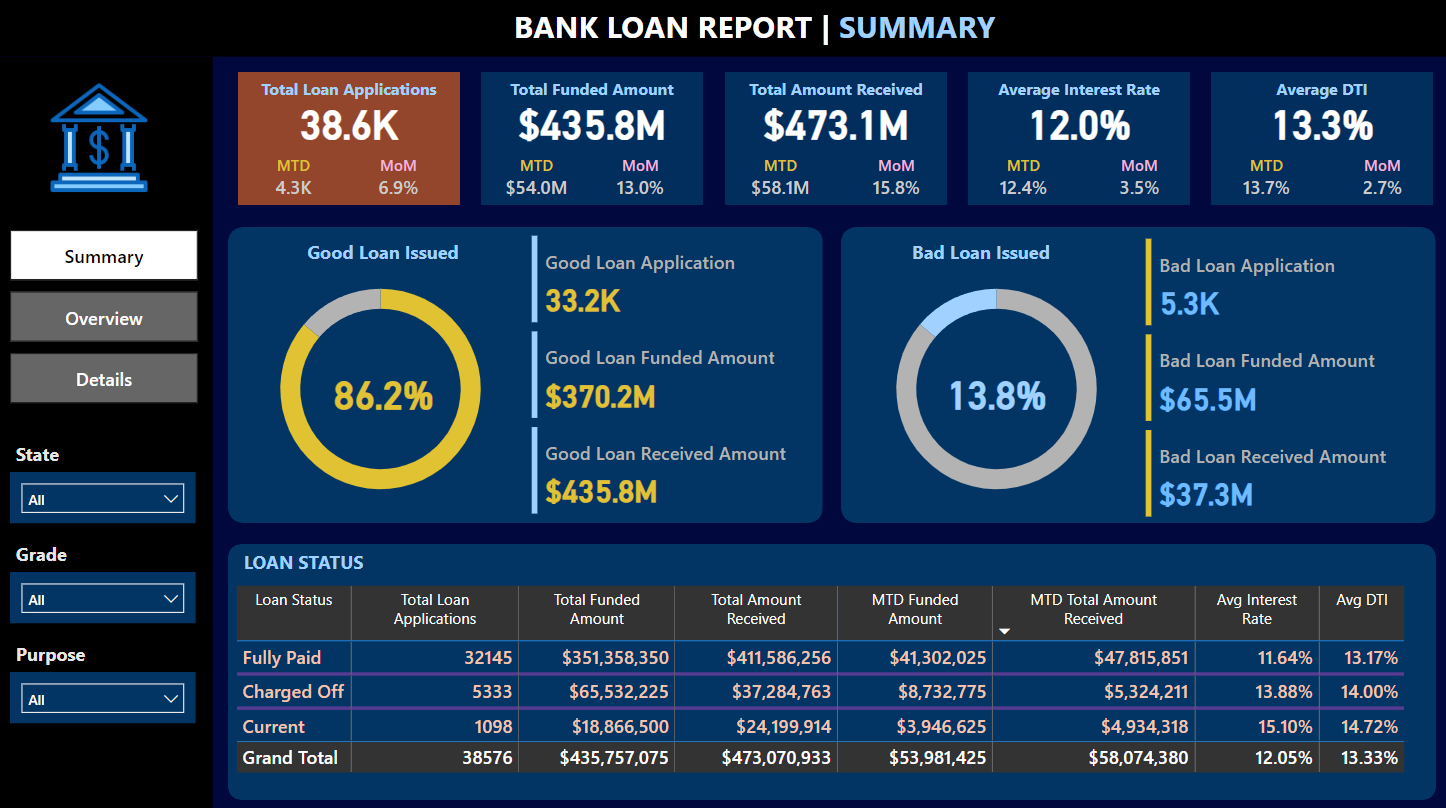

The page's visual inventory and layout, read from the dashboard file:
{"tool":"powerbi","page":{"name":"Summary","canvas":[1280,720],"ordinal":0},"visuals":[{"type":"shape","box":[0,55.3,192,665],"z":0},{"type":"shape","box":[214.2,68.5,194.9,116.8],"z":0,"group":"g1"},{"type":"shape","box":[427.8,68.5,194.9,116.8],"z":0,"group":"g2"},{"type":"shape","box":[641.4,68.5,194.9,116.8],"z":0,"group":"g3"},{"type":"shape","box":[855,68.5,194.9,116.8],"z":0,"group":"g4"},{"type":"shape","box":[1068.6,68.5,194.9,116.8],"z":0,"group":"g5"},{"type":"card","fields":{"Values":["bank_loan_data.Total Loan Applications"]},"box":[214.2,90.5,194.9,43.9],"z":1000,"group":"g1"},{"type":"card","fields":{"Values":["bank_loan_data.Total Funded Amount"]},"box":[427.8,90.5,194.9,43.9],"z":1000,"group":"g2"},{"type":"card","fields":{"Values":["bank_loan_data.Total Amount Received"]},"box":[641.4,90.5,194.9,43.9],"z":1000,"group":"g3"},{"type":"card","fields":{"Values":["bank_loan_data.Average Interest Rate"]},"box":[855,90.5,194.9,43.9],"z":1000,"group":"g4"},{"type":"card","fields":{"Values":["bank_loan_data.Average DTI"]},"box":[1068.6,90.5,194.9,43.9],"z":1000,"group":"g5"},{"type":"shape","box":[205.5,482.9,1060.7,224.8],"z":1000},{"type":"textbox","box":[214.2,68.5,194.9,31.6],"z":2000,"group":"g1"},{"type":"textbox","box":[427.8,68.5,194.9,31.6],"z":2000,"group":"g2"},{"type":"textbox","box":[641.4,68.5,194.9,31.6],"z":2000,"group":"g3"},{"type":"textbox","box":[855,68.5,194.9,31.6],"z":2000,"group":"g4"},{"type":"textbox","box":[1068.6,68.5,194.9,31.6],"z":2000,"group":"g5"},{"type":"shape","box":[205.5,204.6,522.4,259.9],"z":2000},{"type":"shape","box":[0,0,1280.2,55.3],"z":3000},{"type":"card","title":"MTD","fields":{"Values":["bank_loan_data.MTD Loan Applications"]},"box":[225.6,141.4,74.6,43.9],"z":3000,"group":"g1"},{"type":"card","title":"MTD","fields":{"Values":["bank_loan_data.MTD Loan Funded Applications"]},"box":[439.2,141.4,74.6,43.9],"z":3000,"group":"g2"},{"type":"card","title":"MTD","fields":{"Values":["bank_loan_data.MTD Total Amount Received"]},"box":[652.8,141.4,74.6,43.9],"z":3000,"group":"g3"},{"type":"card","title":"MTD","fields":{"Values":["bank_loan_data.MTD Average Interest Rate"]},"box":[866.4,141.4,74.6,43.9],"z":3000,"group":"g4"},{"type":"card","title":"MTD","fields":{"Values":["bank_loan_data.MTD Average DTI"]},"box":[1080,141.4,74.6,43.9],"z":3000,"group":"g5"},{"type":"card","title":"MoM","fields":{"Values":["bank_loan_data.MoM Loan Applications"]},"box":[317.8,141.4,74.6,43.9],"z":4000,"group":"g1"},{"type":"donutChart","fields":{"Category":["bank_loan_data.Good vs Bad Loans"],"Y":["bank_loan_data.Total Loan Applications"]},"box":[214.2,231.8,250.2,230],"z":4000},{"type":"textbox","box":[244.1,210.7,194.9,31.6],"z":5000},{"type":"card","fields":{"Values":["bank_loan_data.Good Loan %"]},"box":[274.8,327.5,134.3,43.9],"z":6000},{"type":"textbox","box":[451.3,4.4,445.2,47.4],"z":7000},{"type":"card","title":"MoM","fields":{"Values":["bank_loan_data.MoM Total Amount Received"]},"box":[754.7,141.4,74.6,43.9],"z":7000,"group":"g3"},{"type":"card","title":"MoM","fields":{"Values":["bank_loan_data.MoM Average Interest Rate"]},"box":[968.3,141.4,74.6,43.9],"z":7000,"group":"g4"},{"type":"card","title":"MoM","fields":{"Values":["bank_loan_data.MoM Average DTI"]},"box":[1181.9,141.4,74.6,43.9],"z":7000,"group":"g5"},{"type":"group","id":"g1","title":"Group 1","box":[214.2,68.5,194.9,116.8],"z":8000},{"type":"group","id":"g2","title":"Group 1","box":[427.8,68.5,194.9,116.8],"z":9000},{"type":"card","title":"MoM","fields":{"Values":["bank_loan_data.MoM Total Funded Amount"]},"box":[530.3,141.4,74.6,43.9],"z":10000},{"type":"group","id":"g3","title":"Group 2","box":[641.4,68.5,194.9,116.8],"z":11000},{"type":"group","id":"g4","title":"Group 2","box":[855,68.5,194.9,116.8],"z":12000},{"type":"group","id":"g5","title":"Group 2","box":[1068.6,68.5,194.9,116.8],"z":13000},{"type":"shape","box":[743.7,204.6,522.4,259.9],"z":14000},{"type":"cardVisual","fields":{"Data":["bank_loan_data.Good Loan Application","bank_loan_data.Good Loan Funded Amount","bank_loan_data.Good Loan Received Amount"]},"box":[467.1,207.2,250.2,254.6],"z":15000},{"type":"donutChart","fields":{"Category":["bank_loan_data.Good vs Bad Loans"],"Y":["bank_loan_data.Total Loan Applications"]},"box":[755.1,231.8,250.2,230],"z":16000},{"type":"textbox","box":[769.2,210.7,194.9,31.6],"z":17000},{"type":"card","fields":{"Values":["bank_loan_data.Bad Loan %"]},"box":[813.1,327.5,134.3,43.9],"z":18000},{"type":"cardVisual","fields":{"Data":["bank_loan_data.Bad Loan Application","bank_loan_data.Bad Loan Funded Amount","bank_loan_data.Bad Loan Received Amount"]},"box":[1006.2,209.9,250.2,254.6],"z":19000},{"type":"tableEx","fields":{"Values":["bank_loan_data.loan_status","bank_loan_data.Total Loan Applications","bank_loan_data.Total Funded Amount","bank_loan_data.Total Amount Received","bank_loan_data.MTD Loan Funded Applications","bank_loan_data.MTD Total Amount Received","bank_loan_data.Average Interest Rate","bank_loan_data.Average DTI"]},"box":[207.2,514.5,1049.3,186.1],"z":20000},{"type":"textbox","box":[214.2,482.9,153.7,31.6],"z":21000},{"type":"slicer","fields":{"Values":["bank_loan_data.address_state"]},"box":[14,419.7,163.3,44.8],"z":22000},{"type":"textbox","box":[14.5,564.1,88.6,31.6],"z":23000},{"type":"slicer","fields":{"Values":["bank_loan_data.grade"]},"box":[14,507.5,163.3,44.8],"z":24000},{"type":"textbox","box":[14,475.9,79,31.6],"z":25000},{"type":"textbox","box":[14,388.1,88.7,31.6],"z":26000},{"type":"slicer","fields":{"Values":["bank_loan_data.purpose"]},"box":[14,595.3,163.3,44.8],"z":27000},{"type":"image","box":[30.7,66.9,123.8,119.3],"z":27001},{"type":"pageNavigator","box":[14.5,207,165.4,152.8],"z":27002}]}

Visuals, with their boxes in screenshot pixels (x1, y1, x2, y2), scaled from the page's 1280x720 canvas onto the 1446x808 screenshot:
shape: 0 62 217 807
shape: 242 77 462 208
shape: 483 77 703 208
shape: 725 77 945 208
shape: 966 77 1186 208
shape: 1207 77 1427 208
card - bank_loan_data.Total Loan Applications: 242 102 462 151
card - bank_loan_data.Total Funded Amount: 483 102 703 151
card - bank_loan_data.Total Amount Received: 725 102 945 151
card - bank_loan_data.Average Interest Rate: 966 102 1186 151
card - bank_loan_data.Average DTI: 1207 102 1427 151
shape: 232 542 1430 794
textbox: 242 77 462 112
textbox: 483 77 703 112
textbox: 725 77 945 112
textbox: 966 77 1186 112
textbox: 1207 77 1427 112
shape: 232 230 822 521
shape: 0 0 1445 62
"MTD" card: 255 159 339 208
"MTD" card: 496 159 580 208
"MTD" card: 737 159 822 208
"MTD" card: 979 159 1063 208
"MTD" card: 1220 159 1304 208
"MoM" card: 359 159 443 208
donutChart - bank_loan_data.Good vs Bad Loans x bank_loan_data.Total Loan Applications: 242 260 525 518
textbox: 276 236 496 272
card - bank_loan_data.Good Loan %: 310 368 462 417
textbox: 510 5 1013 58
"MoM" card: 853 159 937 208
"MoM" card: 1094 159 1178 208
"MoM" card: 1335 159 1419 208
"Group 1" group: 242 77 462 208
"Group 1" group: 483 77 703 208
"MoM" card: 599 159 683 208
"Group 2" group: 725 77 945 208
"Group 2" group: 966 77 1186 208
"Group 2" group: 1207 77 1427 208
shape: 840 230 1430 521
cardVisual - bank_loan_data.Good Loan Application x bank_loan_data.Good Loan Funded Amount: 528 233 810 518
donutChart - bank_loan_data.Good vs Bad Loans x bank_loan_data.Total Loan Applications: 853 260 1136 518
textbox: 869 236 1089 272
card - bank_loan_data.Bad Loan %: 919 368 1070 417
cardVisual - bank_loan_data.Bad Loan Application x bank_loan_data.Bad Loan Funded Amount: 1137 236 1419 521
tableEx - bank_loan_data.loan_status x bank_loan_data.Total Loan Applications: 234 577 1419 786
textbox: 242 542 416 577
slicer - bank_loan_data.address_state: 16 471 200 521
textbox: 16 633 116 669
slicer - bank_loan_data.grade: 16 570 200 620
textbox: 16 534 105 570
textbox: 16 436 116 471
slicer - bank_loan_data.purpose: 16 668 200 718
image: 35 75 175 209
pageNavigator: 16 232 203 404
